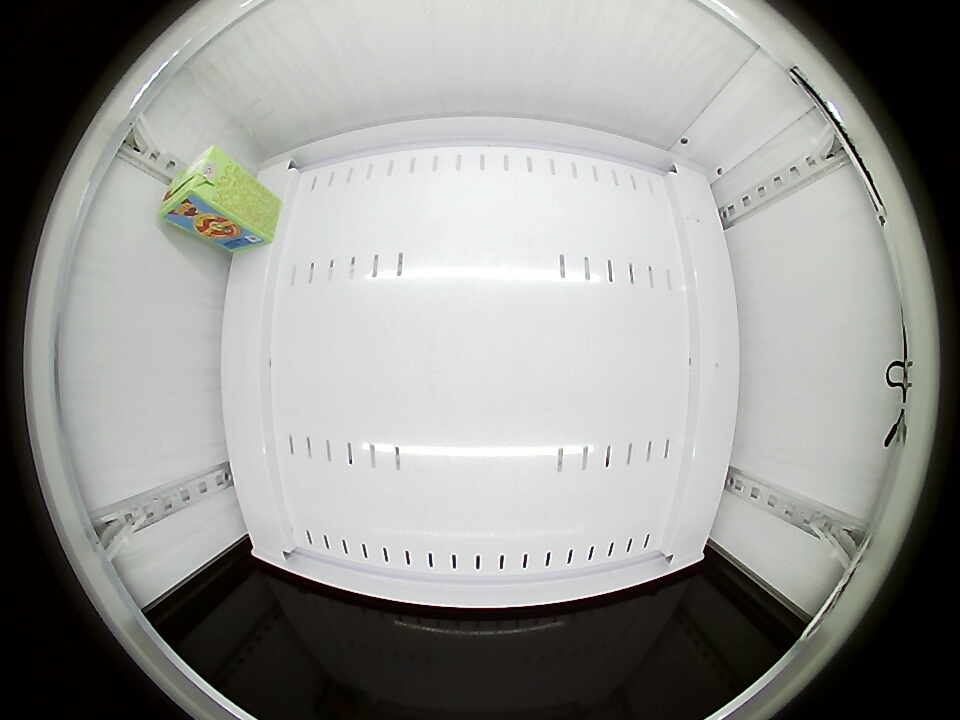wanglaoji: (159, 144, 237, 228)
